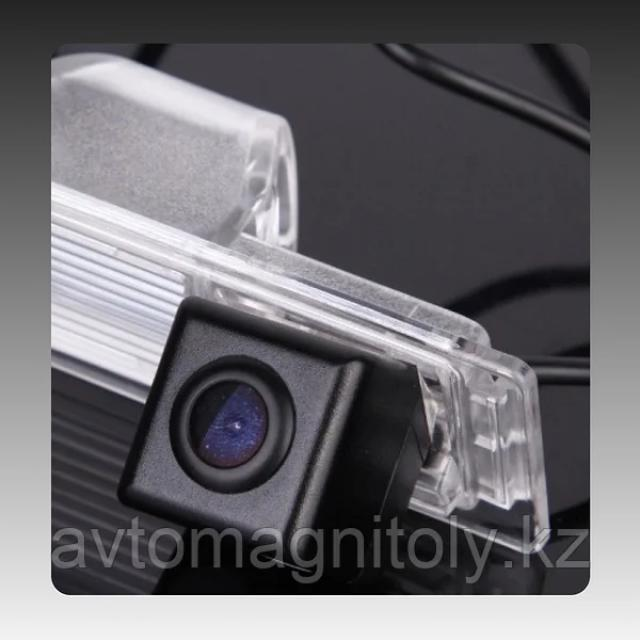hidden camera: (171, 360, 295, 489)
